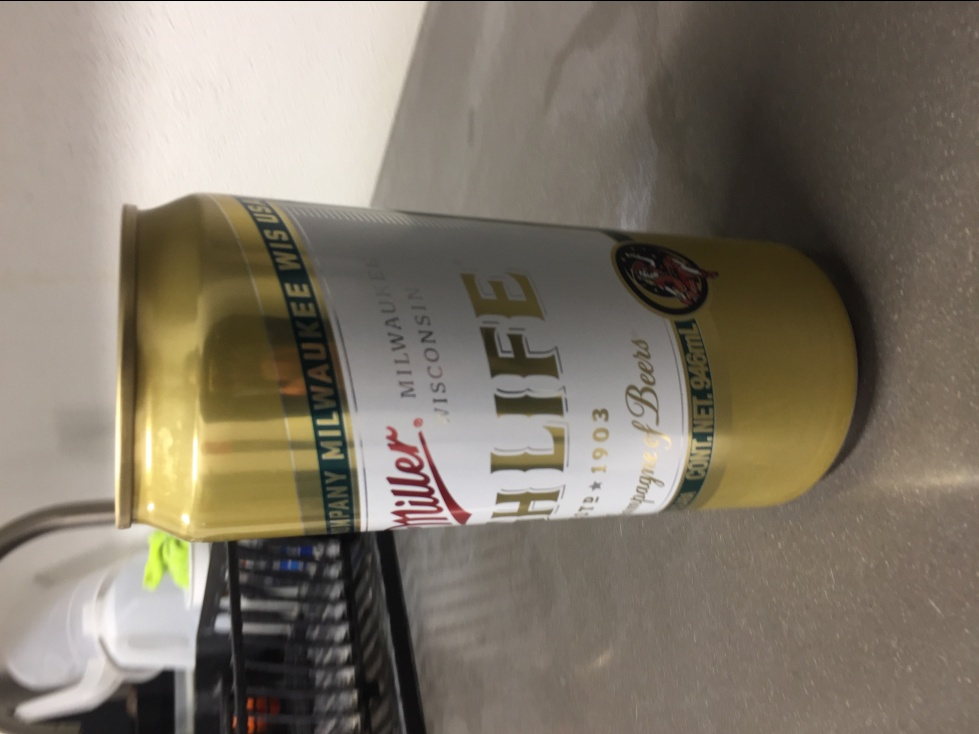miller: (111, 188, 864, 541)
